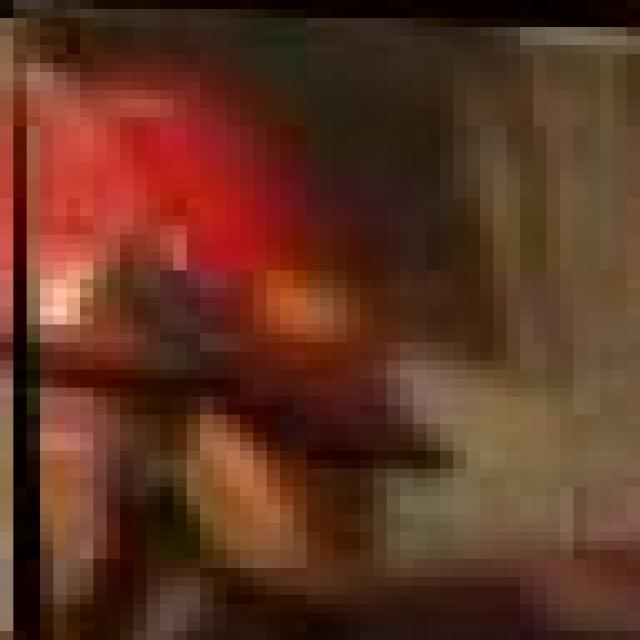nofire: (13, 0, 640, 640)
